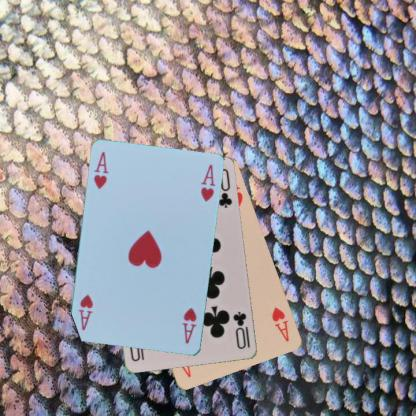10c: (230, 308, 248, 350)
Ah: (269, 305, 291, 343), (91, 149, 110, 191), (180, 305, 198, 346)
